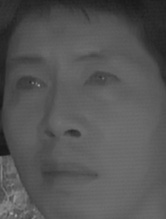eye: (83, 65, 122, 91), (14, 70, 48, 95)
mouth: (39, 155, 100, 195)
